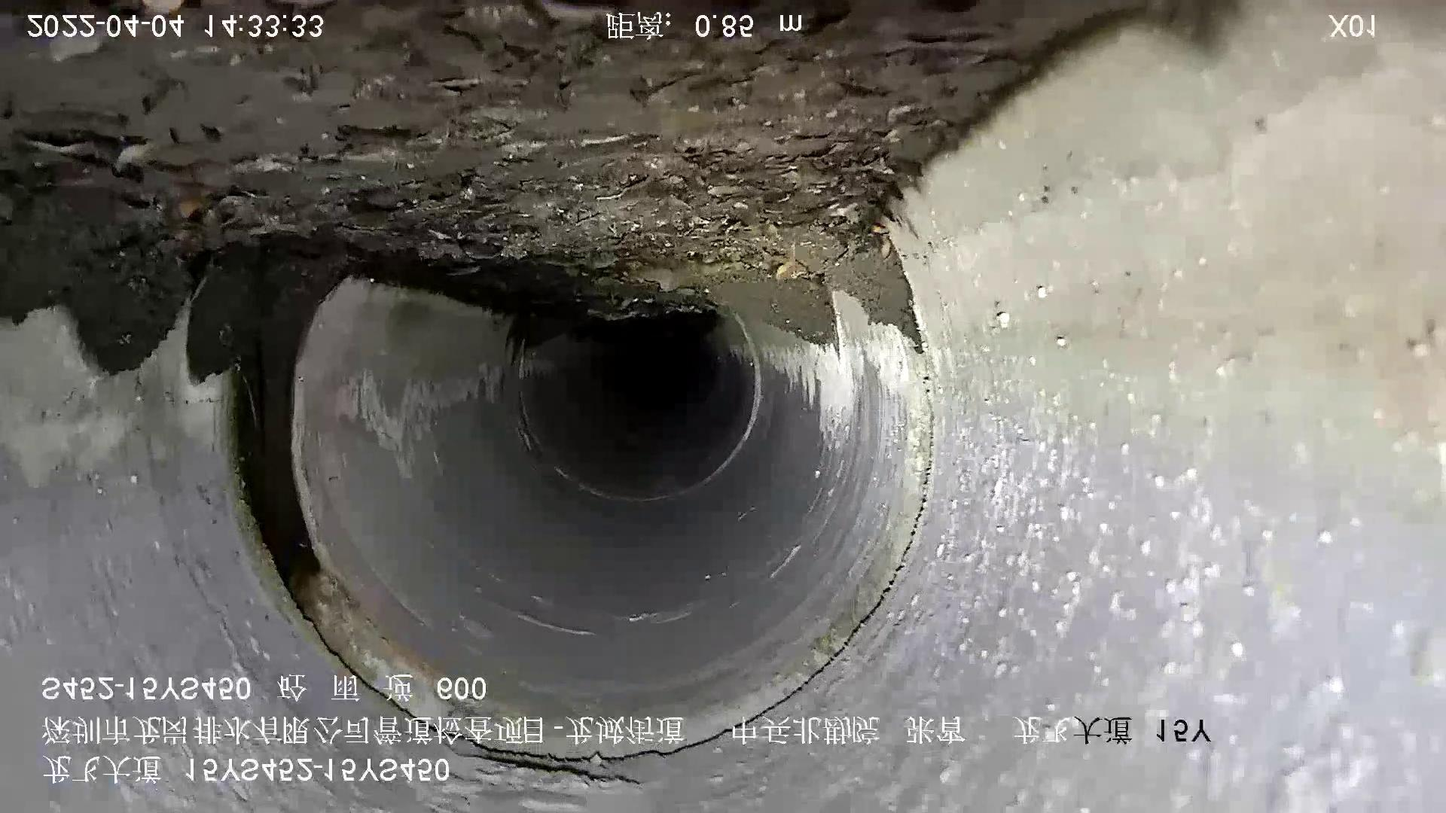CJ: (0, 1, 1139, 342)
CKTJ: (294, 373, 934, 758), (555, 315, 763, 501)
